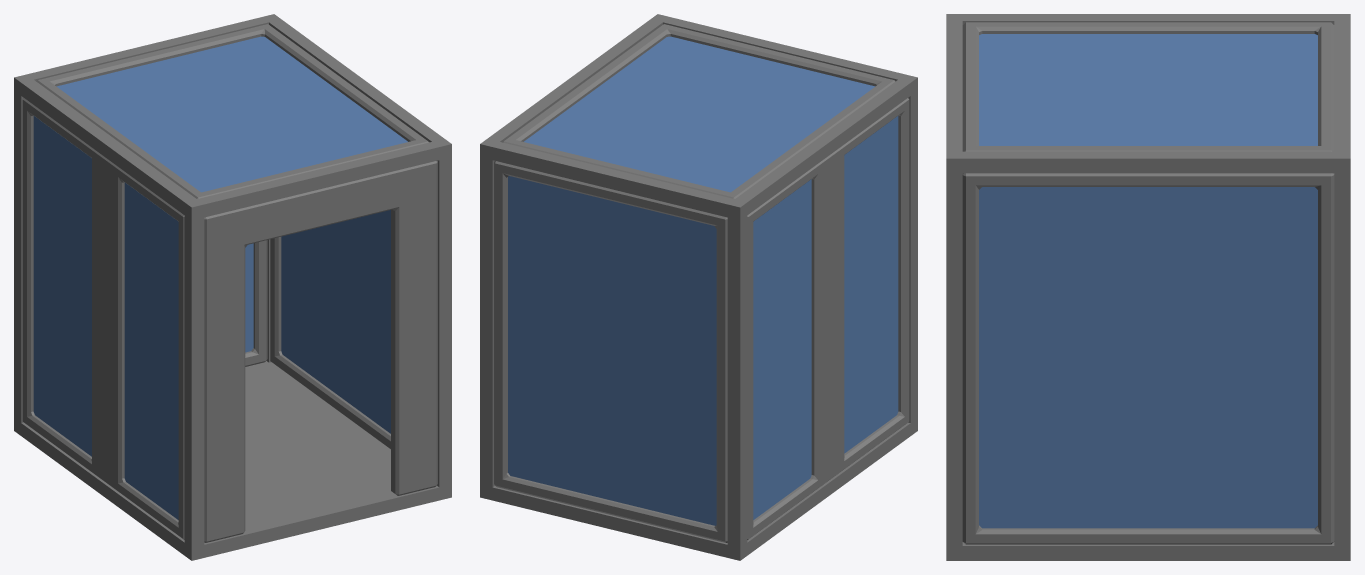
File: Cabina.fbx
3 views of the same model, side by side, from view 1: azimuth 30°, elevation 25°; view 2: azimuth 150°, elevation 25°; view 3: azimuth 270°, elevation 25° (orthographic). The views are drawn at different scales.
Parts seen in each view (by area): view 1: Cabina; view 2: Cabina; view 3: Cabina.
Part boxes in pixels (box(x1,y1,x2,y2)): Cabina: box(14, 14, 451, 560); Cabina: box(480, 14, 917, 560); Cabina: box(946, 14, 1350, 560).
Size of the model in its own units: 208 by 270 by 246.
